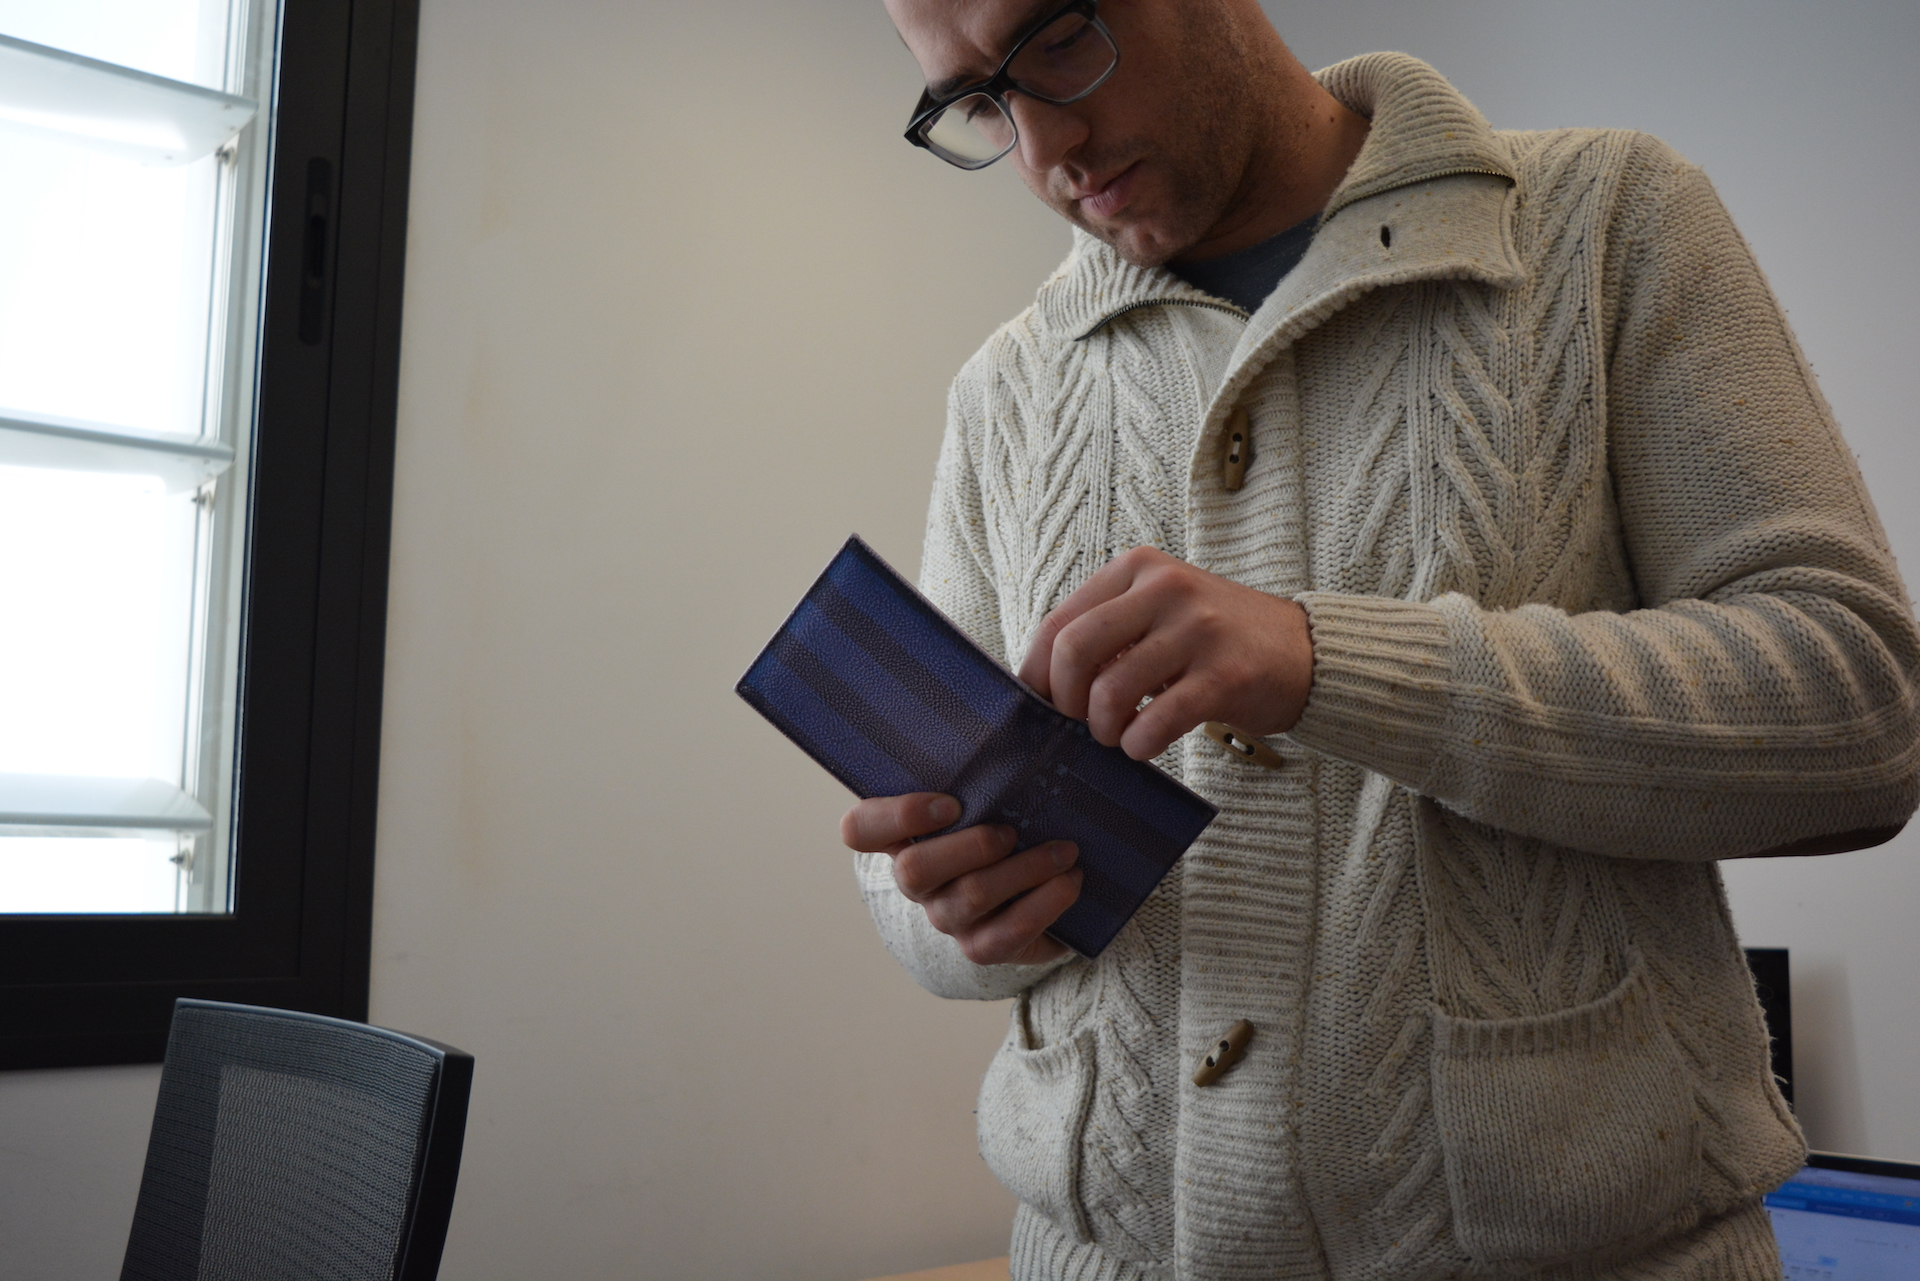monedero: (731, 529, 1225, 965)
